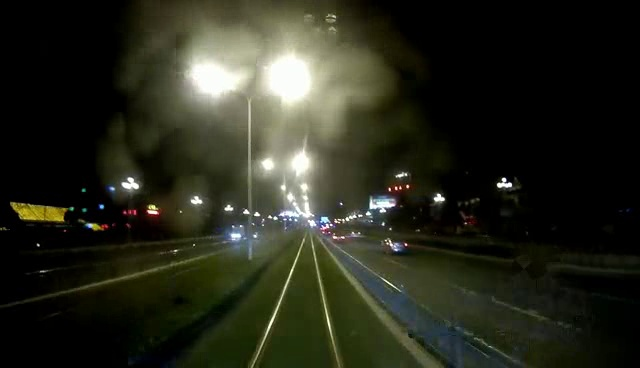car: (378, 236, 415, 257)
